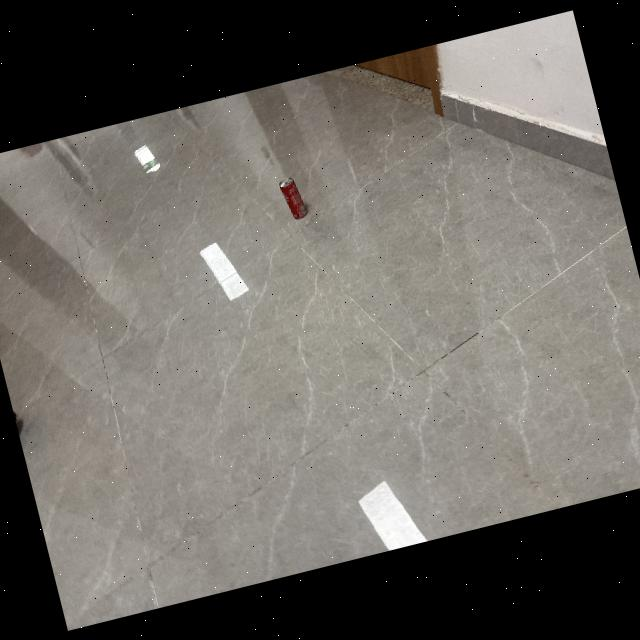Cola: (272, 168, 315, 228)
